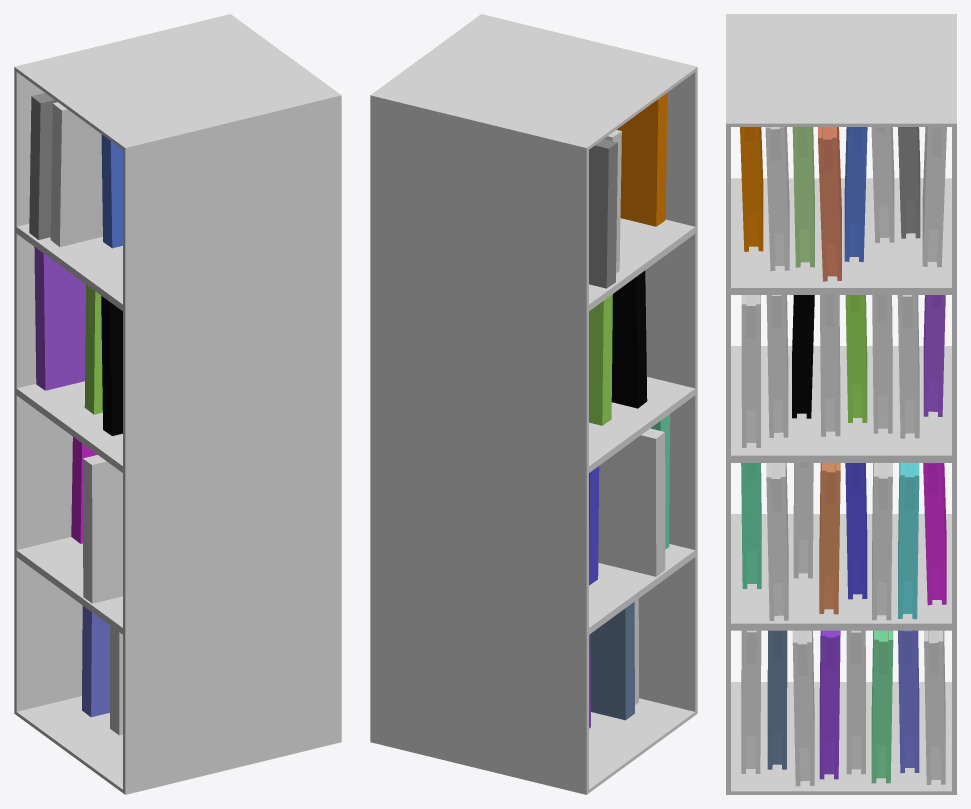
The model's file is lentyna.fbx.
3 renders of one model, left to right at view 1: azimuth 30°, elevation 25°; view 2: azimuth 150°, elevation 25°; view 3: azimuth 270°, elevation 25°, orthographic. The views are drawn at different scales.
Visible parts, largest first — view 1: Cube, Cube.027, Cube.017, Cube.014, Cube.026, Cube.002, Cube.022, Cube.028, Cube.020, Cube.004, Cube.009; view 2: Cube, Cube.014, Cube.032, Cube.007, Cube.022, Cube.026, Cube.020, Cube.012, Cube.016, Cube.027; view 3: Cube, Cube.029, Cube.015, Cube.006, Cube.001, Cube.011, Cube.003, Cube.010, Cube.013, Cube.031, Cube.005, Cube.025 (+21 smaller).
Boxes of the visible parts, x1,y1,x2,y2 form: Cube: (14, 14, 341, 794); Cube.027: (50, 102, 102, 246); Cube.017: (34, 247, 85, 390); Cube.014: (83, 455, 122, 603); Cube.026: (29, 93, 57, 239); Cube.002: (82, 606, 110, 717); Cube.022: (101, 296, 122, 435); Cube.028: (101, 134, 122, 248); Cube.020: (84, 284, 102, 414); Cube.004: (110, 626, 122, 735); Cube.009: (71, 437, 97, 543); Cube: (370, 14, 697, 794); Cube.014: (598, 428, 665, 576); Cube.032: (616, 92, 667, 226); Cube.007: (590, 602, 634, 720); Cube.022: (611, 270, 647, 408); Cube.026: (589, 139, 617, 288); Cube.020: (589, 294, 612, 425); Cube.012: (589, 466, 599, 585); Cube.016: (650, 414, 669, 549); Cube.027: (604, 130, 621, 273); Cube: (726, 14, 956, 794); Cube.029: (818, 127, 841, 281); Cube.015: (766, 463, 788, 620); Cube.006: (792, 630, 814, 786); Cube.001: (924, 630, 945, 784); Cube.011: (872, 463, 892, 620); Cube.003: (871, 630, 893, 783); Cube.010: (898, 463, 919, 619); Cube.013: (819, 463, 840, 614); Cube.031: (765, 127, 789, 271); Cube.005: (819, 630, 840, 779); Cube.025: (922, 127, 946, 267).
Bounding box in the file's own units: 142 × 400 × 125.
